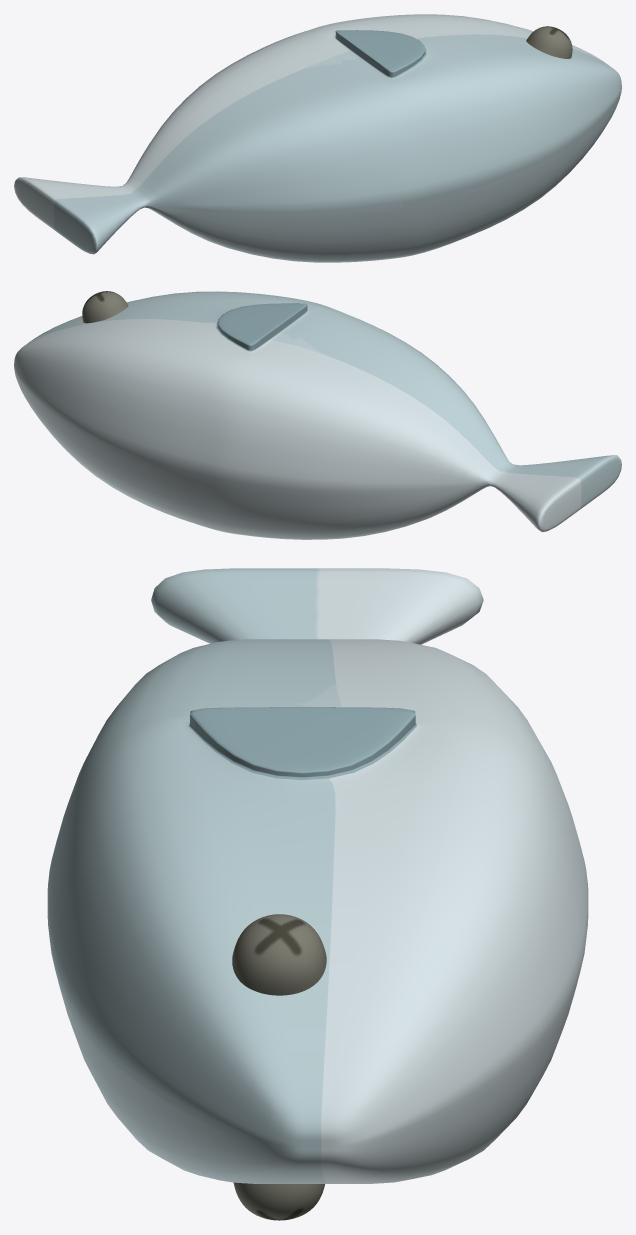
The model's file is Fish.fbx.
3 renders of one model, top to bottom at view 1: azimuth 30°, elevation 25°; view 2: azimuth 150°, elevation 25°; view 3: azimuth 270°, elevation 25°, orthographic. The views are drawn at different scales.
Parts seen in each view (by area): view 1: Fish1; view 2: Fish1; view 3: Fish1.
Boxes of the visible parts, <box> form: Fish1: <box>14,14,621,262</box>; Fish1: <box>14,291,621,539</box>; Fish1: <box>47,568,588,1220</box>.
Size of the model in its own units: 29.65 by 9.5 by 12.38.
Materials: 1 (1 with a texture image).
